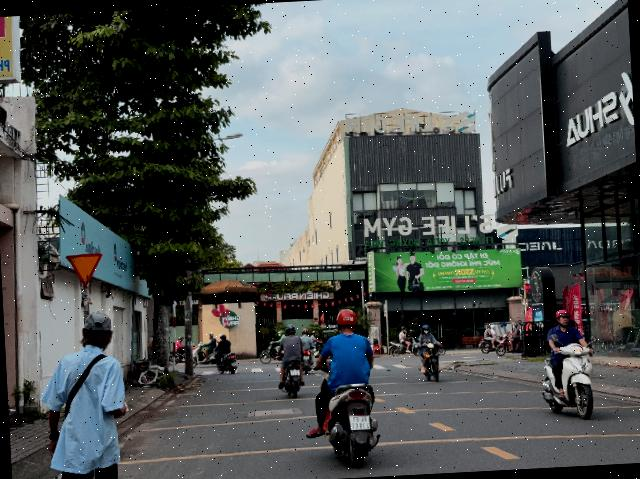giao-nhau-voi-duong-uu-tien: (66, 253, 105, 287)
